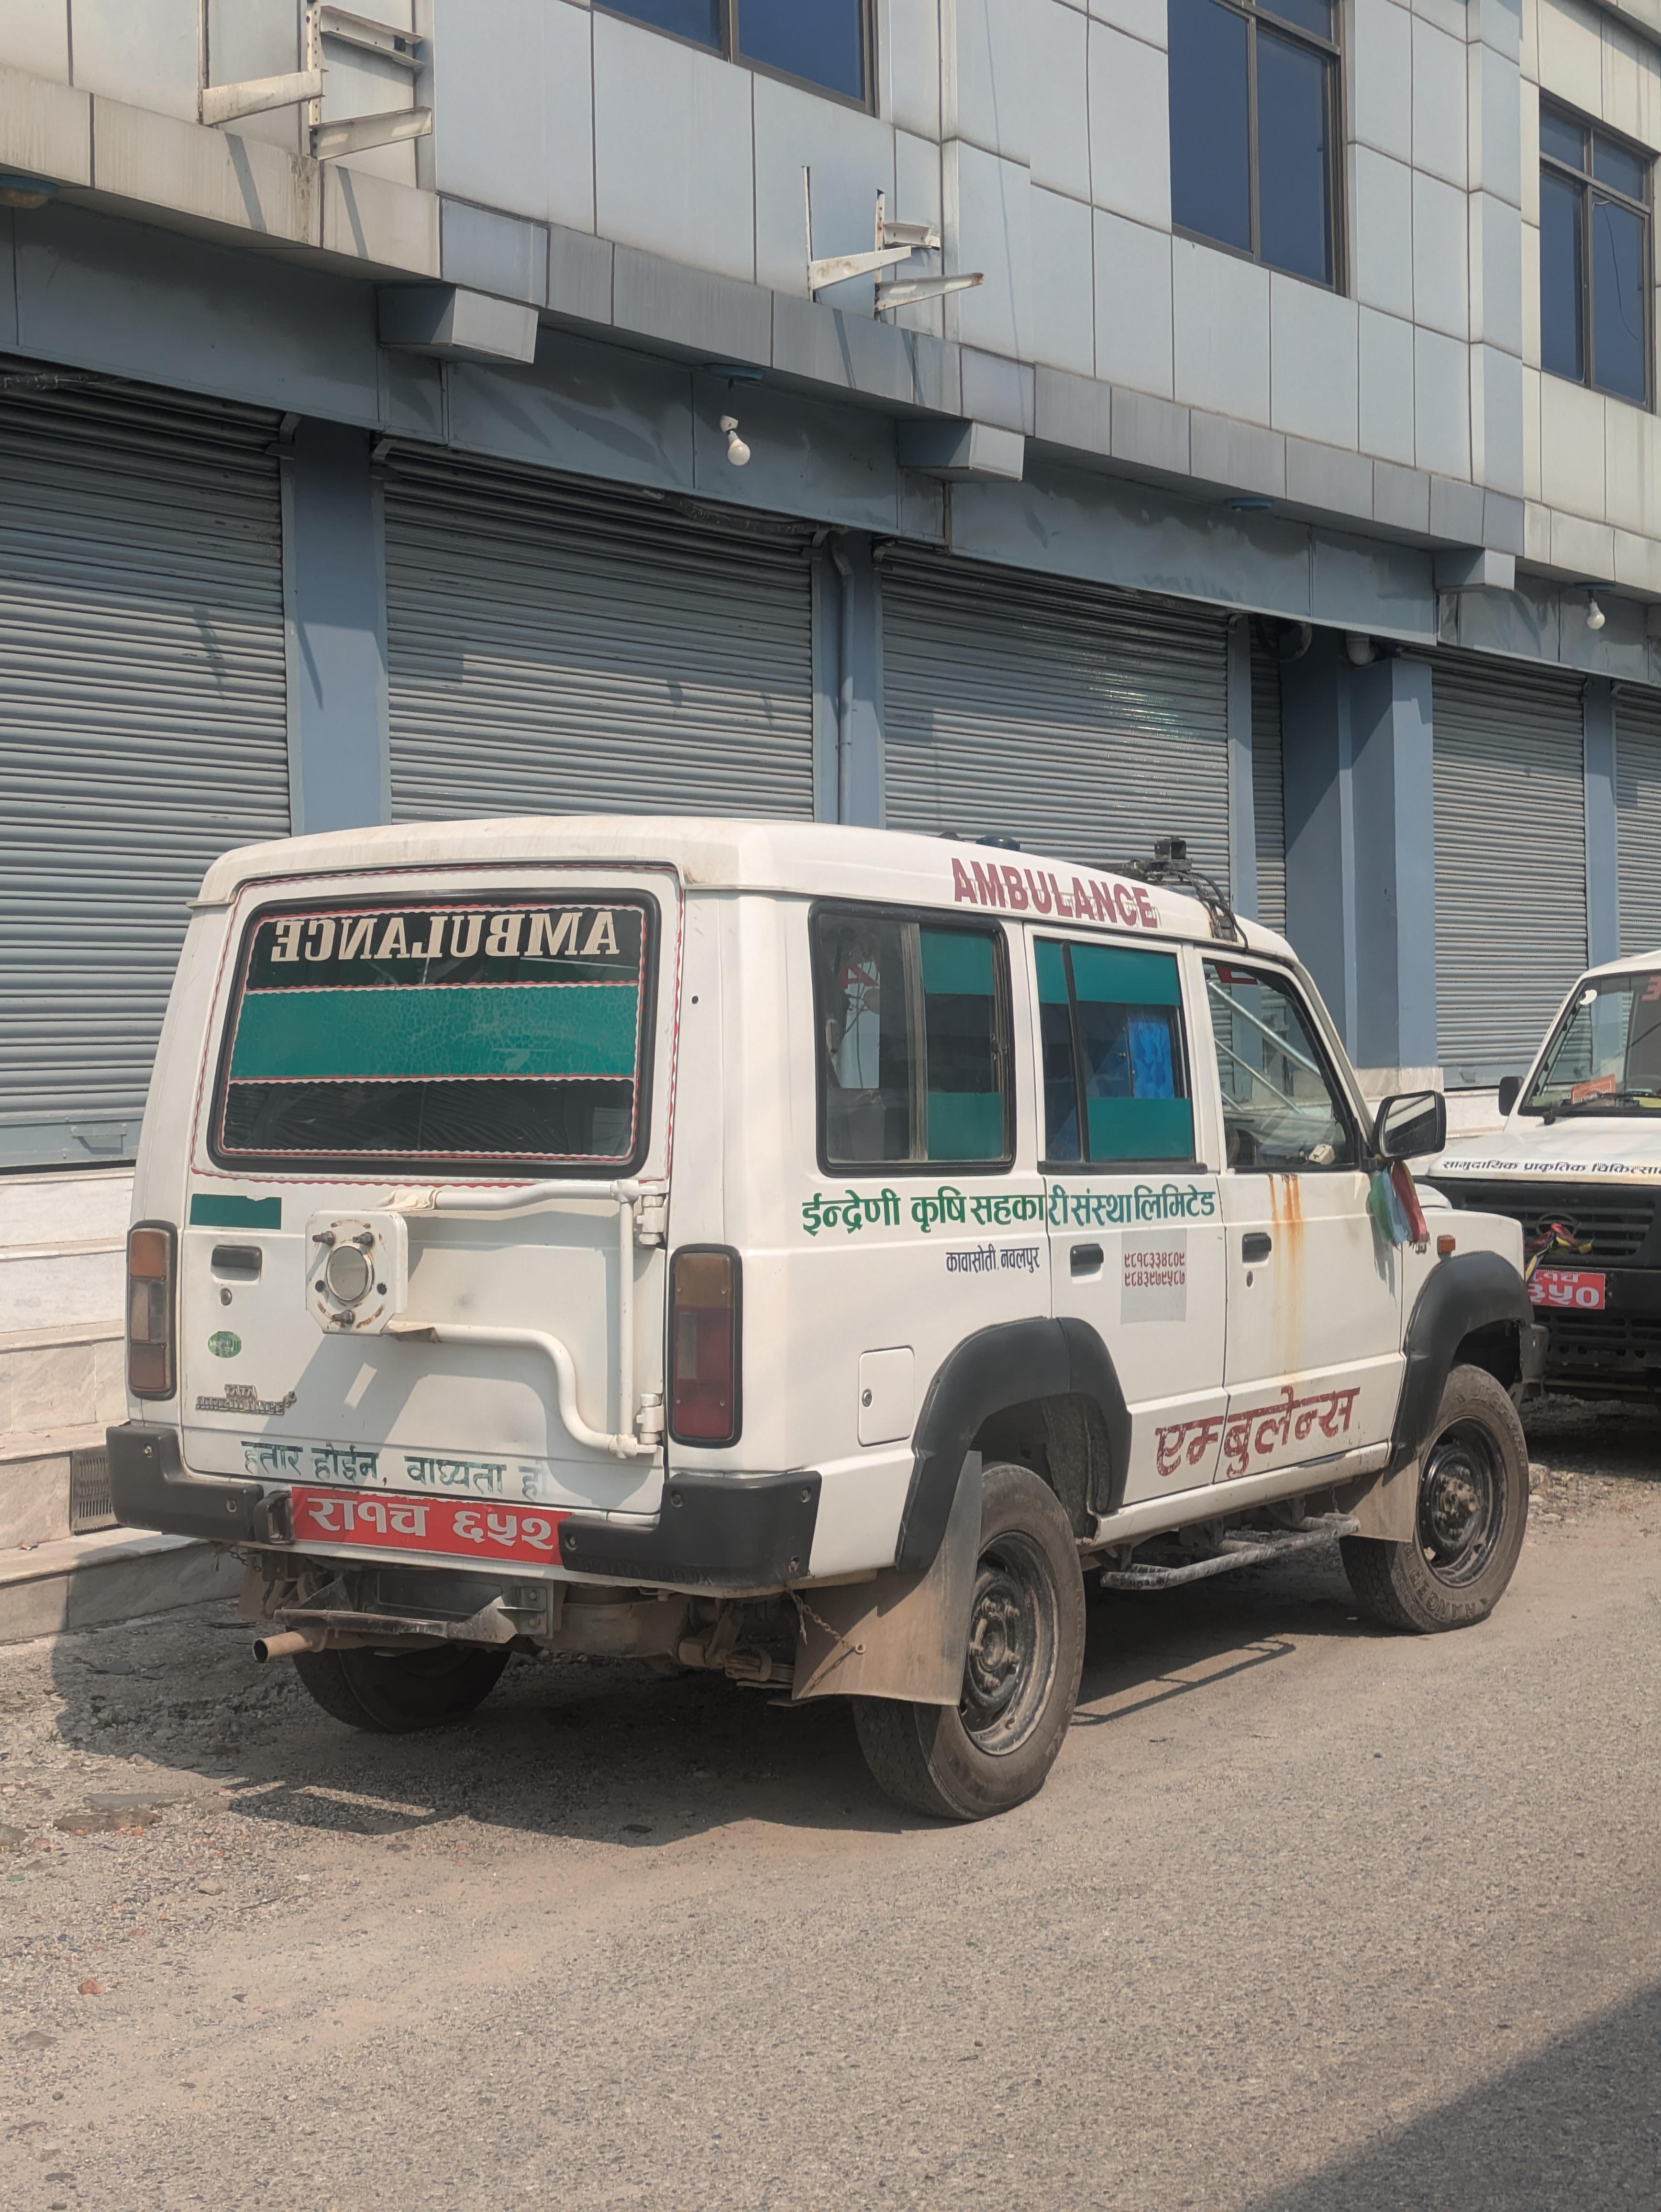ambulance: (82, 806, 1542, 1837), (1417, 890, 1661, 1406)
